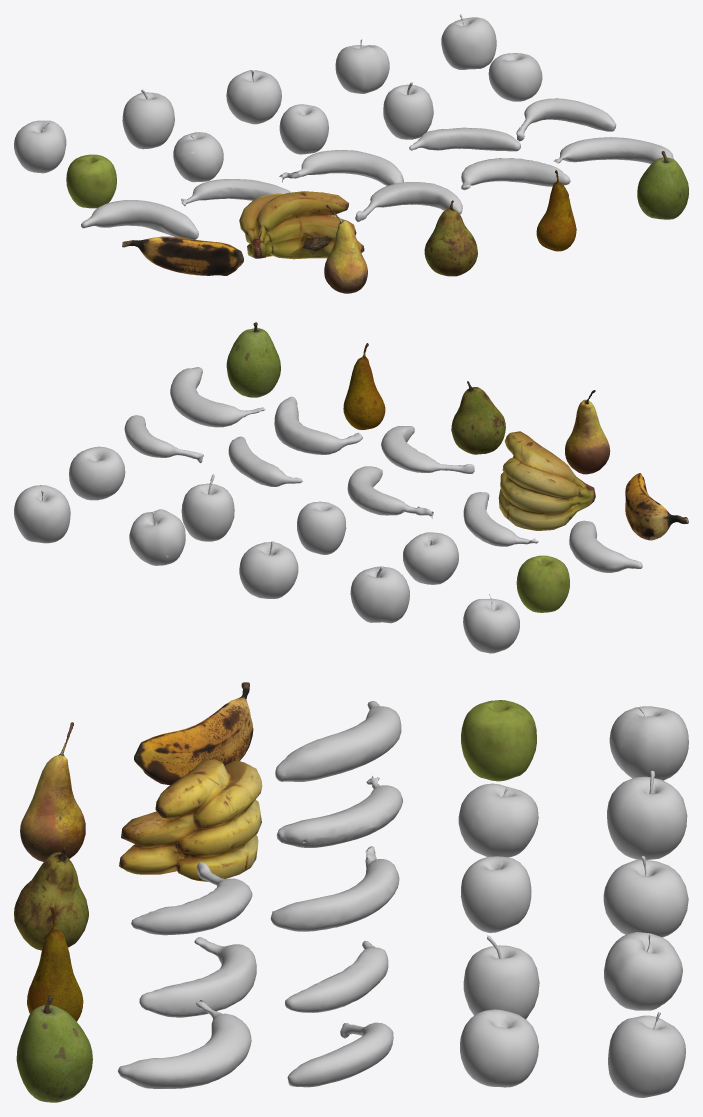
3 renders of one model, top to bottom at view 1: azimuth 30°, elevation 25°; view 2: azimuth 150°, elevation 25°; view 3: azimuth 270°, elevation 25°, orthographic. The views are drawn at different scales.
Parts seen in each view (by area): view 1: banana10_lr, banana12_lr, banana05_lr, pear04_lr, pear01_lr, apple01_lr, banana03_lr, apple04_lr, apple03_lr, banana07_lr, apple08_lr, apple11_lr (+12 smaller); view 2: banana10_lr, pear01_lr, apple04_lr, pear04_lr, apple03_lr, apple01_lr, apple08_lr, apple05_lr, apple02_lr, apple11_lr, apple06_lr, banana06_lr (+12 smaller); view 3: banana10_lr, pear01_lr, banana12_lr, apple04_lr, apple03_lr, apple01_lr, apple11_lr, banana06_lr, apple06_lr, banana05_lr, apple02_lr, pear04_lr (+12 smaller).
Boxes of the visible parts, <box> form: banana10_lr: <box>239,191,364,259</box>; banana12_lr: <box>122,236,243,275</box>; banana05_lr: <box>81,200,198,239</box>; pear04_lr: <box>424,200,477,276</box>; pear01_lr: <box>637,151,688,219</box>; apple01_lr: <box>441,14,496,69</box>; banana03_lr: <box>279,150,403,185</box>; apple04_lr: <box>122,89,174,149</box>; apple03_lr: <box>226,70,281,124</box>; banana07_lr: <box>461,158,570,190</box>; apple08_lr: <box>383,82,433,139</box>; apple11_lr: <box>66,154,116,208</box>; banana10_lr: <box>498,431,595,530</box>; pear01_lr: <box>226,322,280,397</box>; apple04_lr: <box>350,566,409,623</box>; pear04_lr: <box>451,381,505,454</box>; apple03_lr: <box>239,541,298,598</box>; apple01_lr: <box>14,485,70,543</box>; apple08_lr: <box>181,474,234,541</box>; apple05_lr: <box>463,594,519,653</box>; apple02_lr: <box>129,509,185,565</box>; apple11_lr: <box>516,555,569,612</box>; apple06_lr: <box>69,446,125,500</box>; banana06_lr: <box>170,367,265,427</box>; banana10_lr: <box>119,759,262,881</box>; pear01_lr: <box>16,995,92,1102</box>; banana12_lr: <box>134,682,253,785</box>; apple04_lr: <box>607,770,687,859</box>; apple03_lr: <box>603,855,688,937</box>; apple01_lr: <box>608,1012,685,1097</box>; apple11_lr: <box>461,700,536,781</box>; banana06_lr: <box>117,1000,251,1088</box>; apple06_lr: <box>460,1009,538,1087</box>; banana05_lr: <box>275,701,401,781</box>; apple02_lr: <box>604,932,682,1010</box>; pear04_lr: <box>14,847,88,950</box>.
Size of the model in its own units: 604 by 107 by 456.
